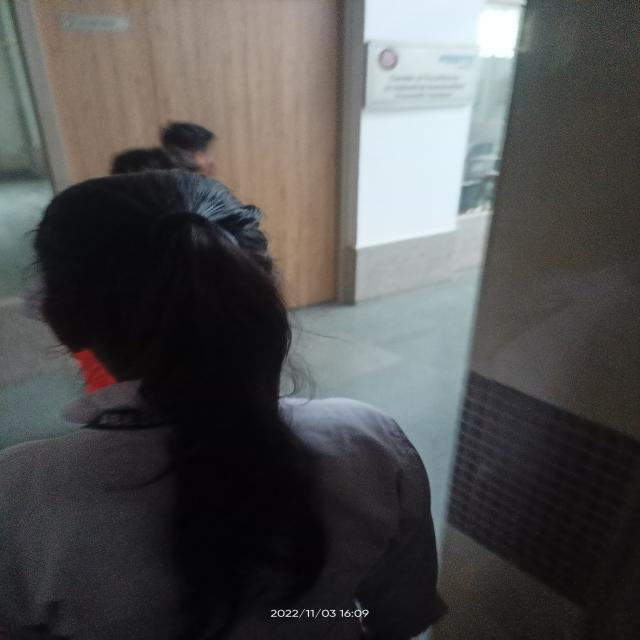unsafe: (10, 168, 448, 640)
